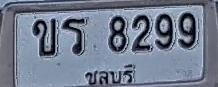2: (132, 14, 151, 51)
8: (109, 15, 126, 52)
9: (178, 12, 196, 48), (155, 13, 173, 49)
A02: (32, 18, 56, 56)
A35: (62, 18, 88, 54)
CBI: (82, 63, 141, 87)
